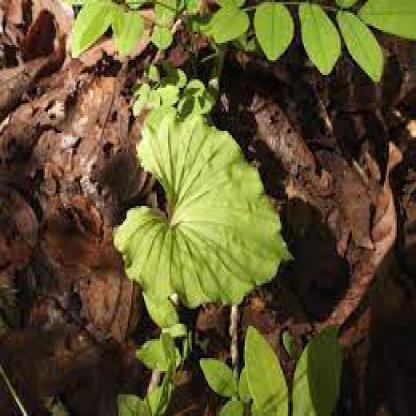ANGGREK: (102, 65, 337, 374)
